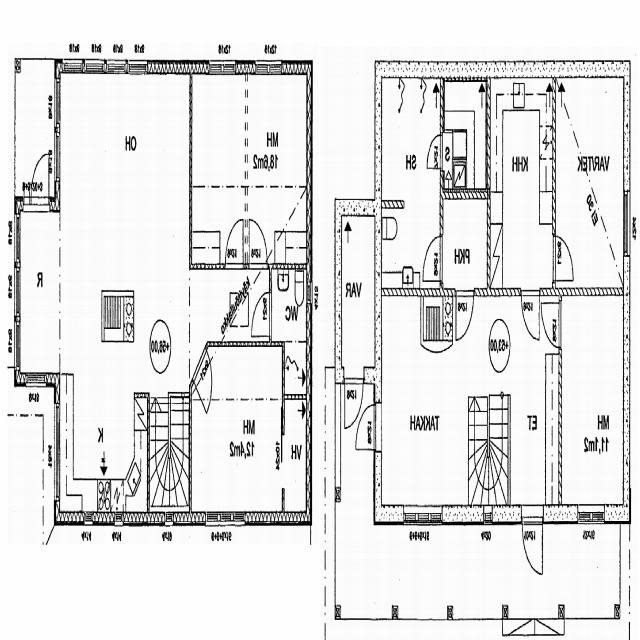door: (192, 347, 220, 414), (522, 504, 542, 574), (356, 405, 382, 450), (31, 153, 49, 211), (552, 236, 574, 280), (345, 377, 363, 429), (456, 287, 474, 339), (541, 303, 562, 347), (422, 237, 443, 280), (250, 218, 268, 268), (522, 287, 539, 339), (251, 292, 271, 336), (226, 218, 243, 268), (427, 134, 445, 168), (24, 182, 30, 211)
